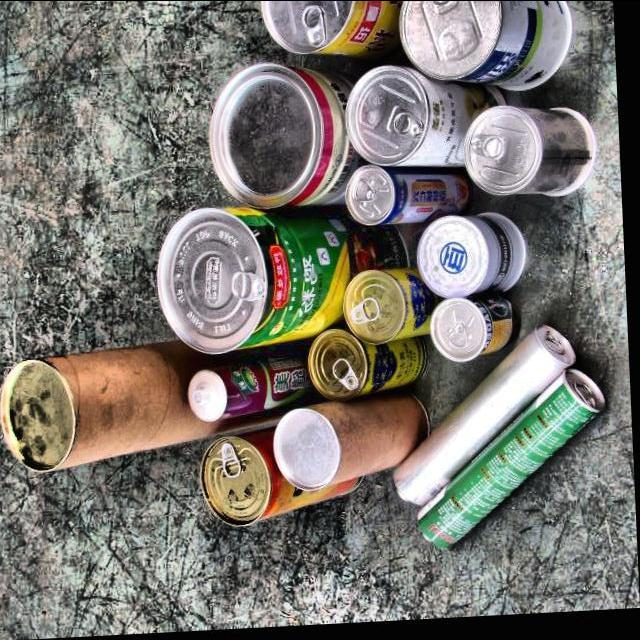Aluminum Can: (385, 321, 586, 533), (416, 368, 612, 574), (148, 200, 354, 364), (198, 56, 364, 224), (344, 59, 516, 188), (398, 0, 588, 106), (188, 428, 374, 530), (468, 105, 602, 210), (416, 206, 534, 302), (248, 0, 412, 69), (0, 344, 81, 480), (305, 319, 426, 400), (340, 160, 475, 232), (338, 266, 448, 354), (182, 360, 322, 428), (270, 400, 352, 502), (428, 293, 518, 377)
